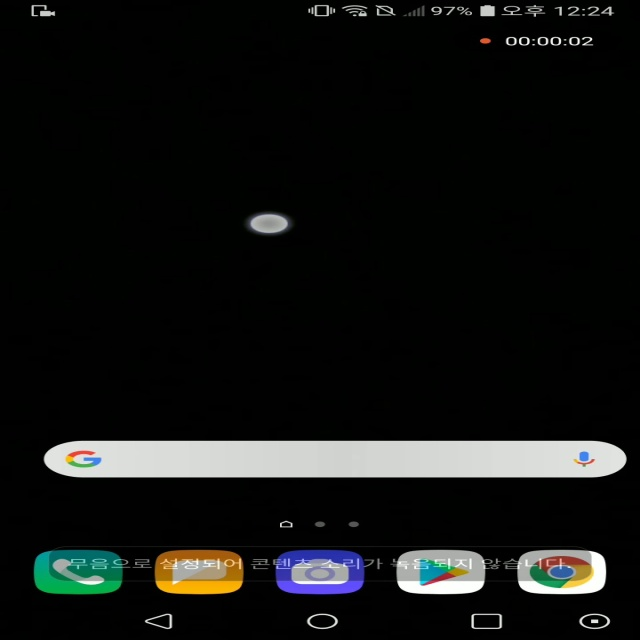Cursor: (247, 213, 291, 236)
